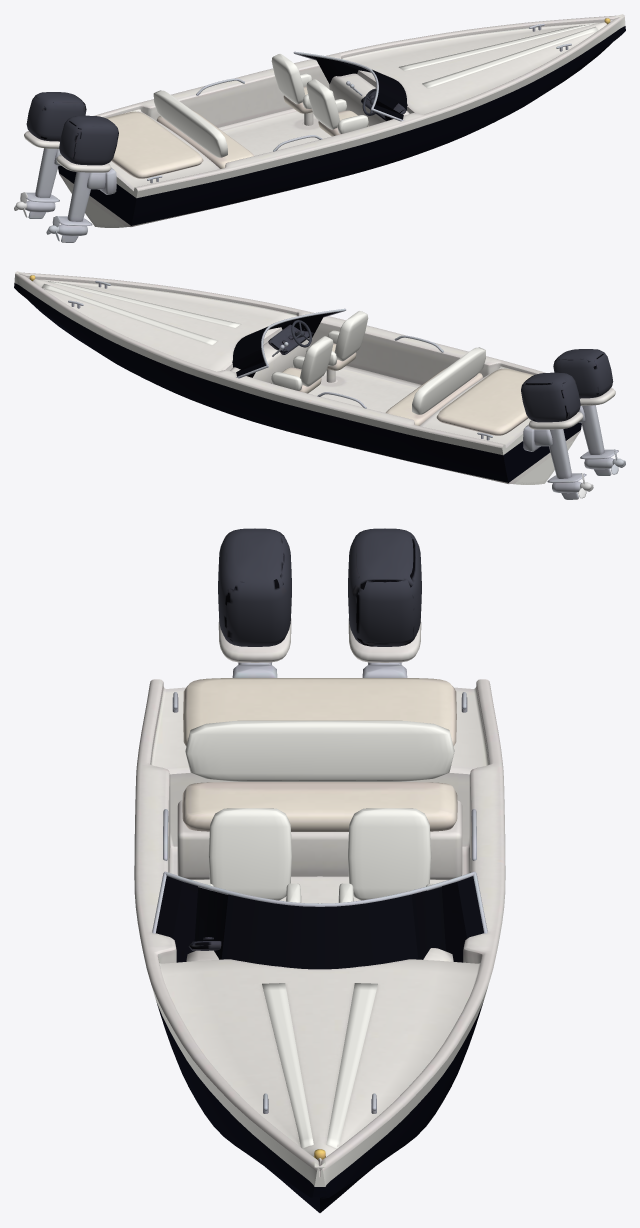
The model's file is lancha-fs-275-wide-2021.glb.
The picture shows the model from 3 angles, top to bottom: view 1: azimuth 30°, elevation 25°; view 2: azimuth 150°, elevation 25°; view 3: azimuth 270°, elevation 25°; orthographic projection. The views are drawn at different scales.
Parts seen in each view (by area): view 1: speedboat_body; view 2: speedboat_body; view 3: speedboat_body.
Part boxes in pixels (box(x1,y1,x2,y2)): speedboat_body: box(21, 14, 625, 242); speedboat_body: box(14, 271, 618, 499); speedboat_body: box(134, 528, 505, 1212).
Size of the model in its own units: 8.38 by 1.75 by 2.28.
3 materials, 1 textured.
